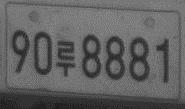0: (33, 31, 53, 76)
1: (154, 36, 172, 85)
8: (80, 33, 102, 80), (104, 35, 126, 82), (127, 36, 149, 82)
9: (11, 29, 30, 73)
루: (55, 40, 77, 78)
